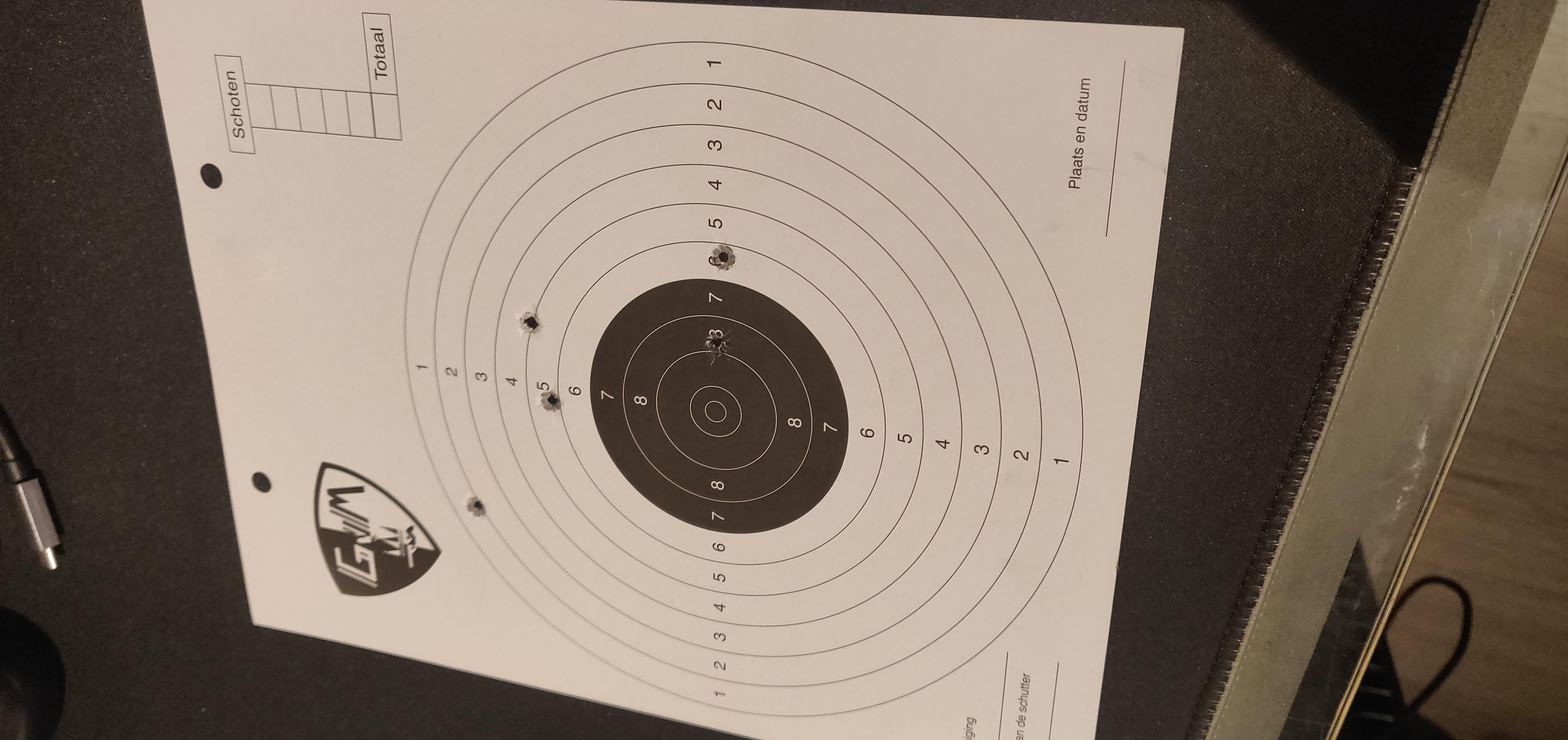hole: (793, 332, 871, 346), (850, 244, 922, 257), (993, 334, 1054, 348), (692, 254, 750, 266), (468, 219, 522, 231)
